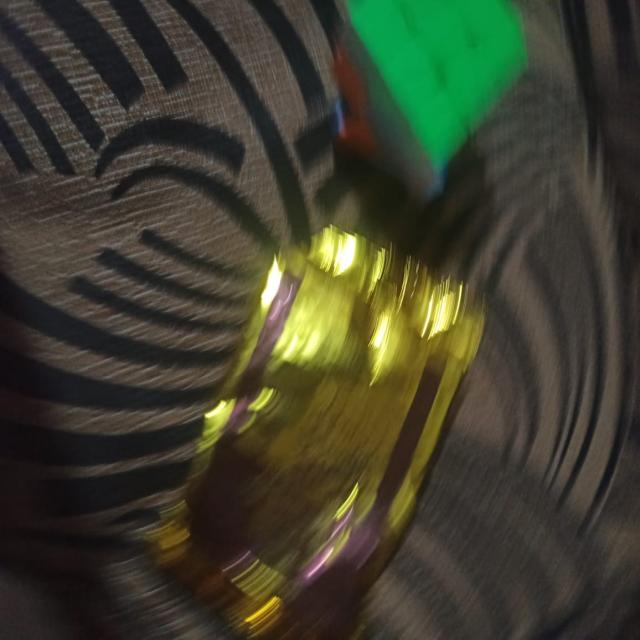Harischandra Coffee: (168, 174, 428, 636)
